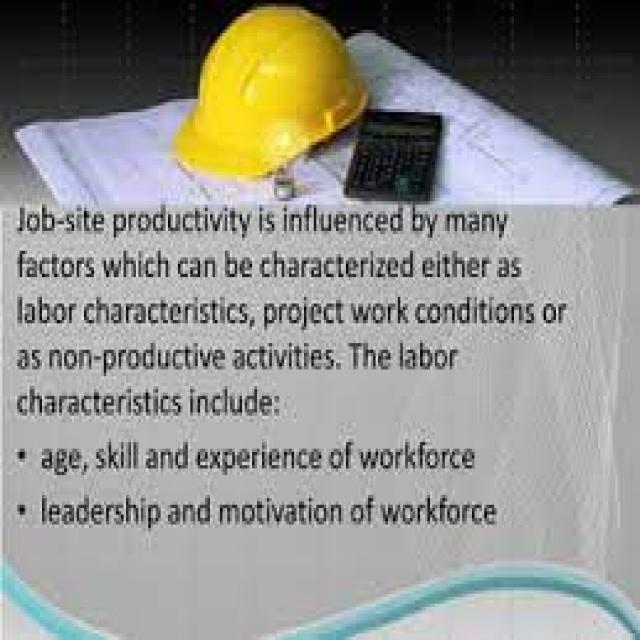Safety-Helmet: (166, 0, 383, 185)
